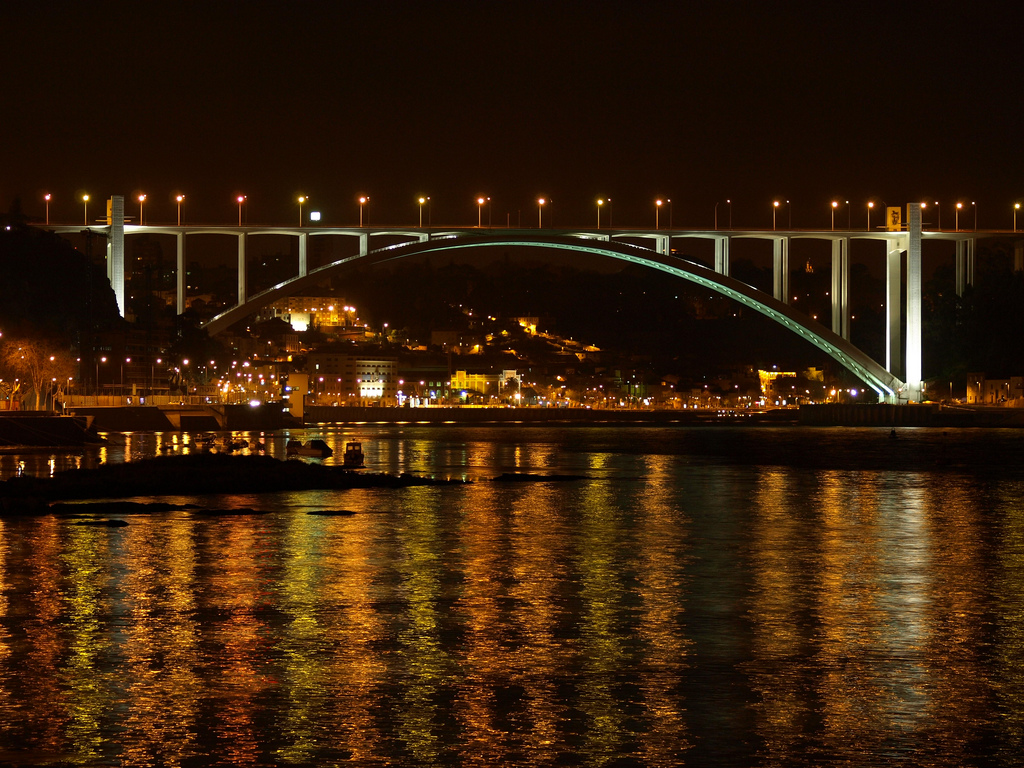arrabida: (23, 195, 1023, 409)
